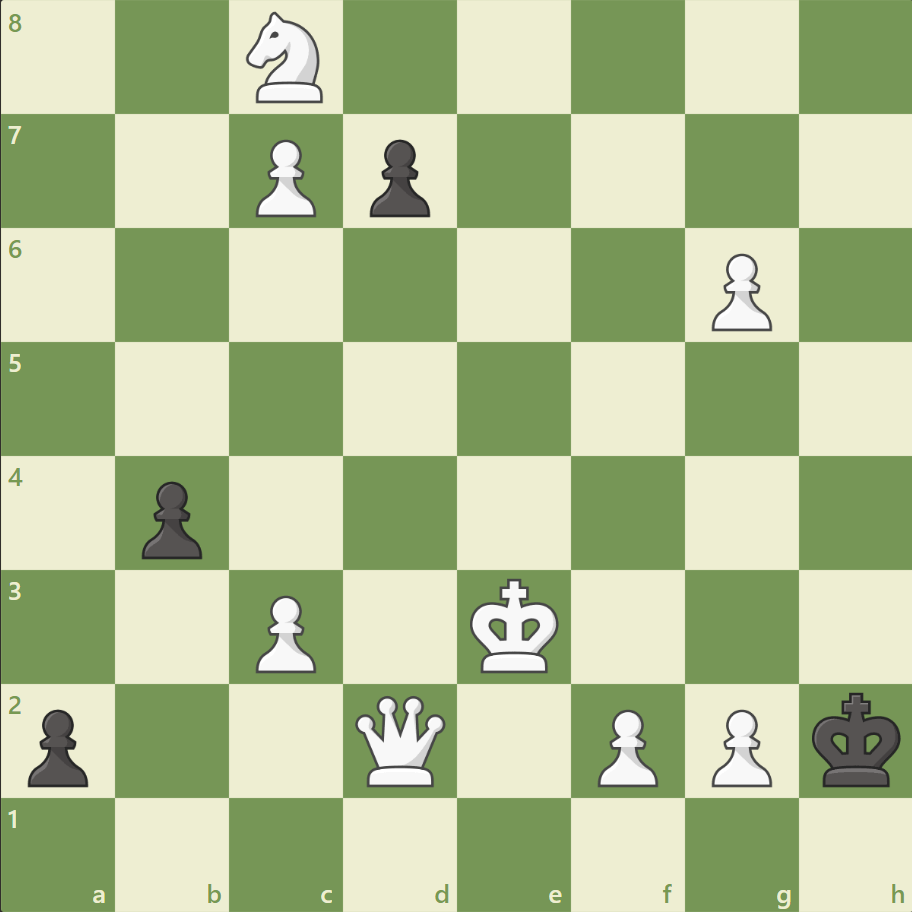K: (465, 571, 565, 679)
N: (238, 7, 335, 110)
P: (247, 132, 322, 223), (701, 246, 776, 337), (247, 586, 322, 677), (701, 700, 776, 791), (588, 700, 662, 791)
Q: (351, 690, 450, 789)
k: (806, 685, 906, 793)
p: (133, 473, 208, 564), (20, 700, 95, 791), (361, 132, 435, 223)
